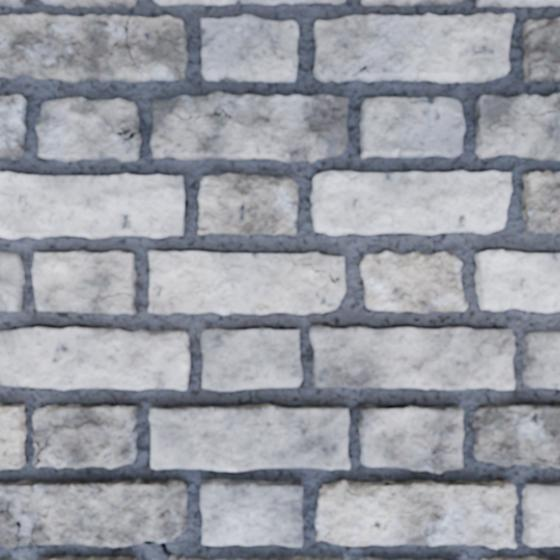brick: (316, 480, 517, 548), (315, 13, 513, 82), (152, 91, 347, 161), (150, 405, 349, 470), (310, 326, 514, 389), (0, 13, 187, 81), (0, 479, 187, 546), (312, 172, 511, 234), (150, 252, 345, 314), (0, 173, 184, 238), (0, 328, 189, 389), (358, 405, 463, 472), (202, 479, 302, 546), (37, 98, 141, 161), (202, 15, 298, 81), (33, 251, 135, 313), (34, 406, 136, 468), (362, 252, 467, 312), (362, 98, 464, 158), (202, 329, 301, 390), (199, 174, 297, 234), (477, 94, 559, 160), (474, 405, 559, 467), (476, 251, 559, 312), (522, 171, 559, 233), (523, 483, 559, 546), (523, 19, 559, 81), (522, 333, 559, 388), (0, 405, 26, 469), (0, 95, 25, 159), (0, 253, 24, 310), (155, 0, 345, 4), (42, 0, 135, 7), (0, 513, 16, 547), (477, 0, 559, 6), (363, 0, 461, 5), (40, 557, 135, 559), (0, 0, 24, 7), (491, 557, 559, 559), (364, 558, 380, 559)
broken_brick: (180, 556, 347, 559), (1, 558, 13, 559)
crack: (289, 254, 340, 300), (0, 500, 21, 557), (103, 117, 140, 145), (28, 503, 51, 547), (121, 16, 136, 67), (33, 432, 53, 467), (144, 540, 180, 559), (514, 456, 559, 466), (11, 94, 22, 115), (492, 490, 515, 497)
